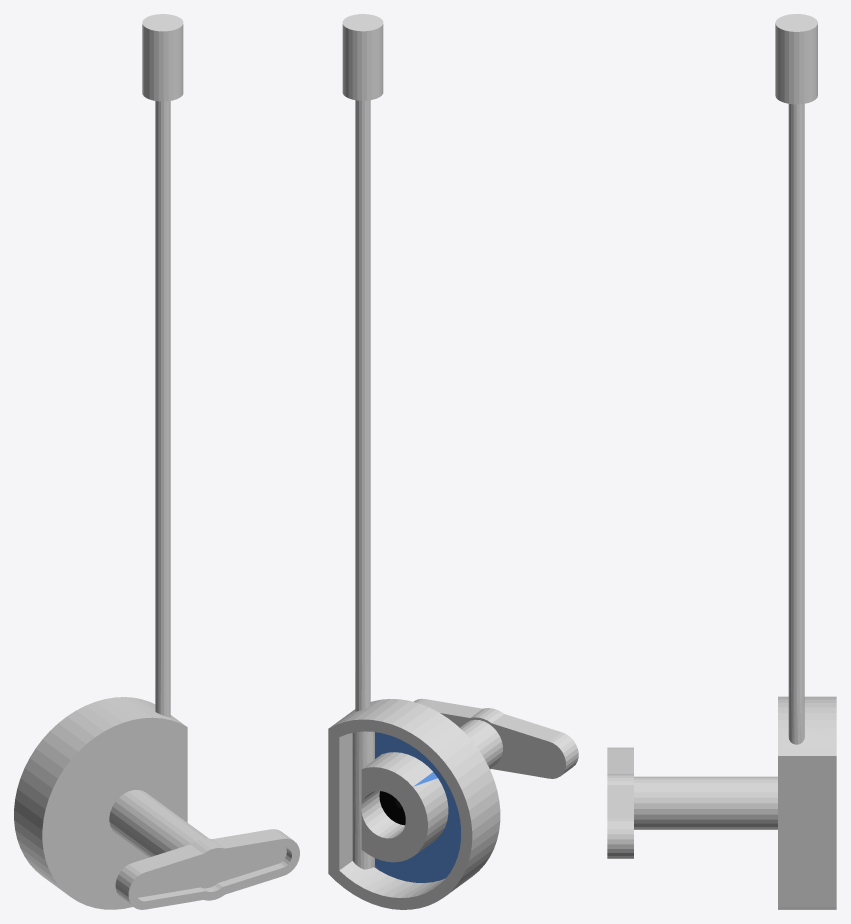
The model's file is ear_left.dae.
3 views of the same model, side by side, from view 1: azimuth 30°, elevation 25°; view 2: azimuth 150°, elevation 25°; view 3: azimuth 270°, elevation 25° (orthographic). The views are drawn at different scales.
Parts seen in each view (by area): view 1: ear_left; view 2: ear_left; view 3: ear_left.
Boxes of the visible parts, x1,y1,x2,y2 form: ear_left: (14,14,299,909); ear_left: (328,14,578,909); ear_left: (607,14,836,909).
Size of the model in its own units: 39.14 by 43 by 186.
